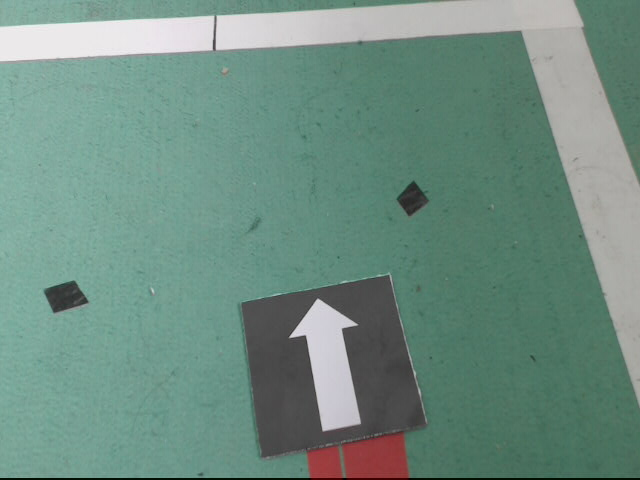straight: (246, 272, 428, 450)
